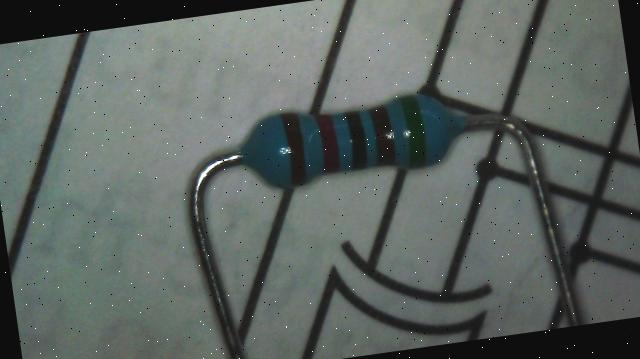black: (344, 110, 369, 168)
brown: (280, 110, 308, 186), (368, 104, 396, 164)
green: (398, 94, 429, 168)
red: (314, 112, 340, 172)
resistor: (233, 78, 474, 205)
